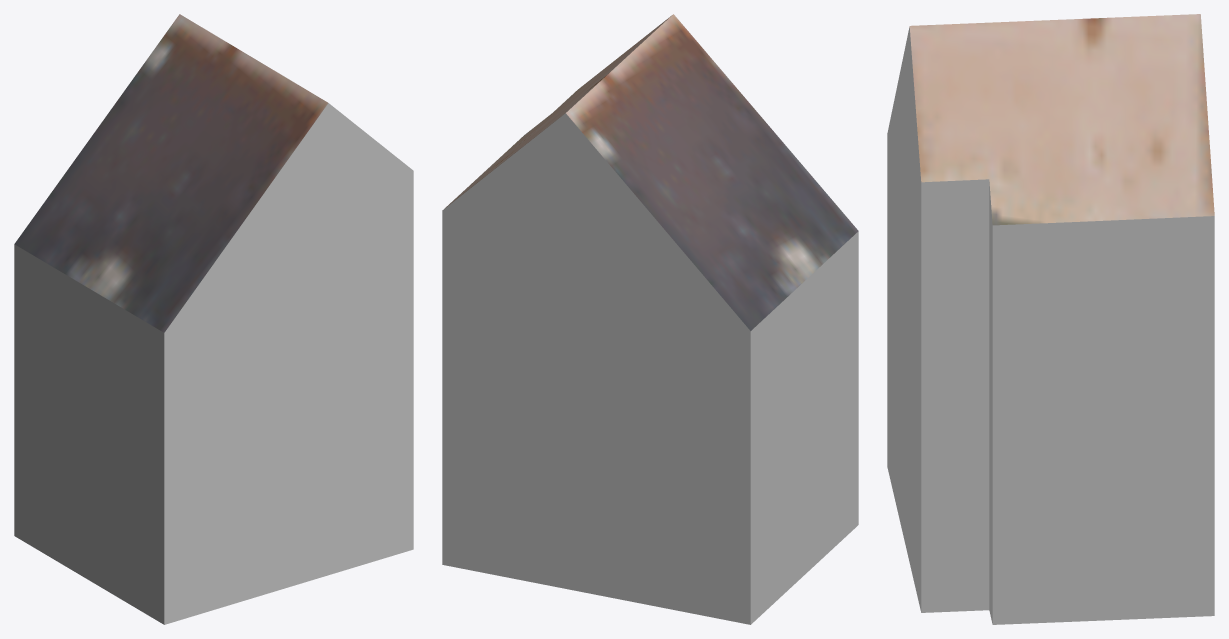
File: DEBW_0010007Tx8J.gltf
3 renders of one model, left to right at view 1: azimuth 30°, elevation 25°; view 2: azimuth 150°, elevation 25°; view 3: azimuth 270°, elevation 25°, orthographic. The views are drawn at different scales.
Visible parts, largest first — view 1: Z_UP; view 2: Z_UP; view 3: Z_UP.
Part boxes in pixels (x1,y1,x2,y2): Z_UP: (14, 14, 413, 624); Z_UP: (442, 14, 858, 624); Z_UP: (887, 14, 1214, 624).
Size of the model in its own units: 13.51 by 19.86 by 10.97.
2 materials, 1 textured.
